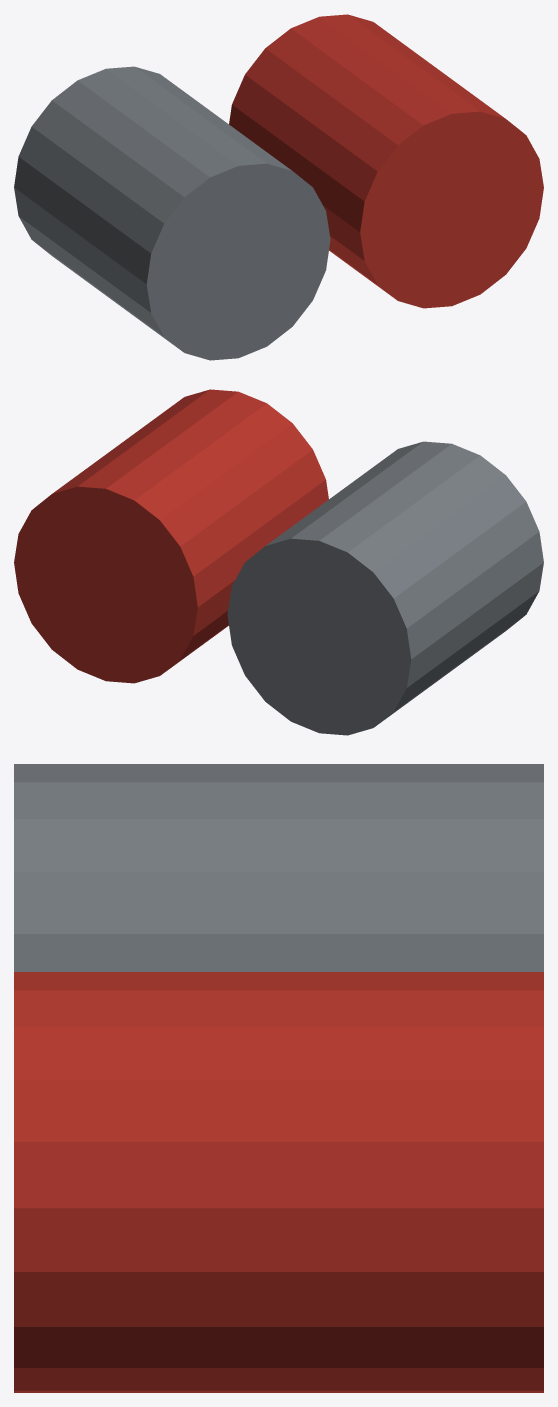
The model's file is barrels.glb.
3 views of the same model, one above another, from view 1: azimuth 30°, elevation 25°; view 2: azimuth 150°, elevation 25°; view 3: azimuth 270°, elevation 25° (orthographic). The views are drawn at different scales.
Visible parts, largest first — view 1: g0_barrel, g1_barrel; view 2: g0_barrel, g1_barrel; view 3: g1_barrel, g0_barrel.
Boxes of the visible parts, left/top/right/bottom form: g0_barrel: left=14, top=66, right=330, bottom=360; g1_barrel: left=229, top=14, right=543, bottom=308; g0_barrel: left=227, top=441, right=543, bottom=735; g1_barrel: left=14, top=389, right=328, bottom=683; g1_barrel: left=14, top=972, right=543, bottom=1392; g0_barrel: left=14, top=764, right=543, bottom=971.
Bounding box in the file's own units: 1.21 × 0.56 × 0.7.
